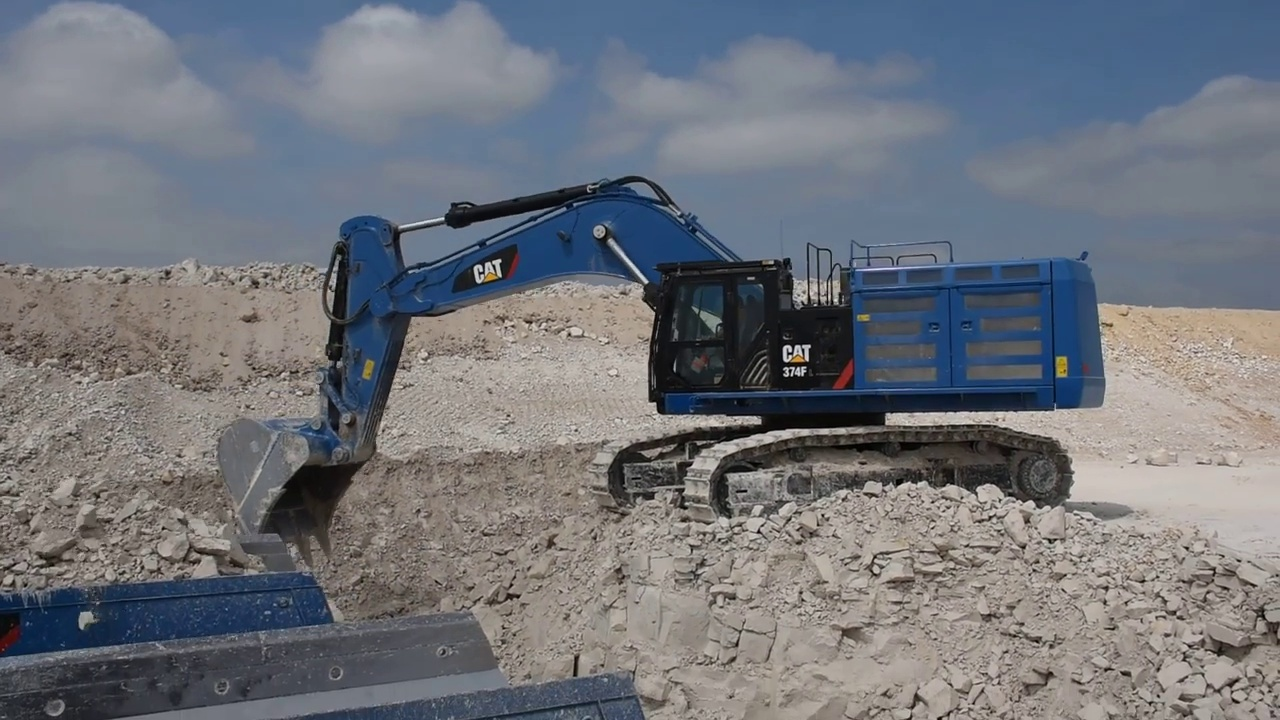excavator: (216, 175, 1107, 569)
